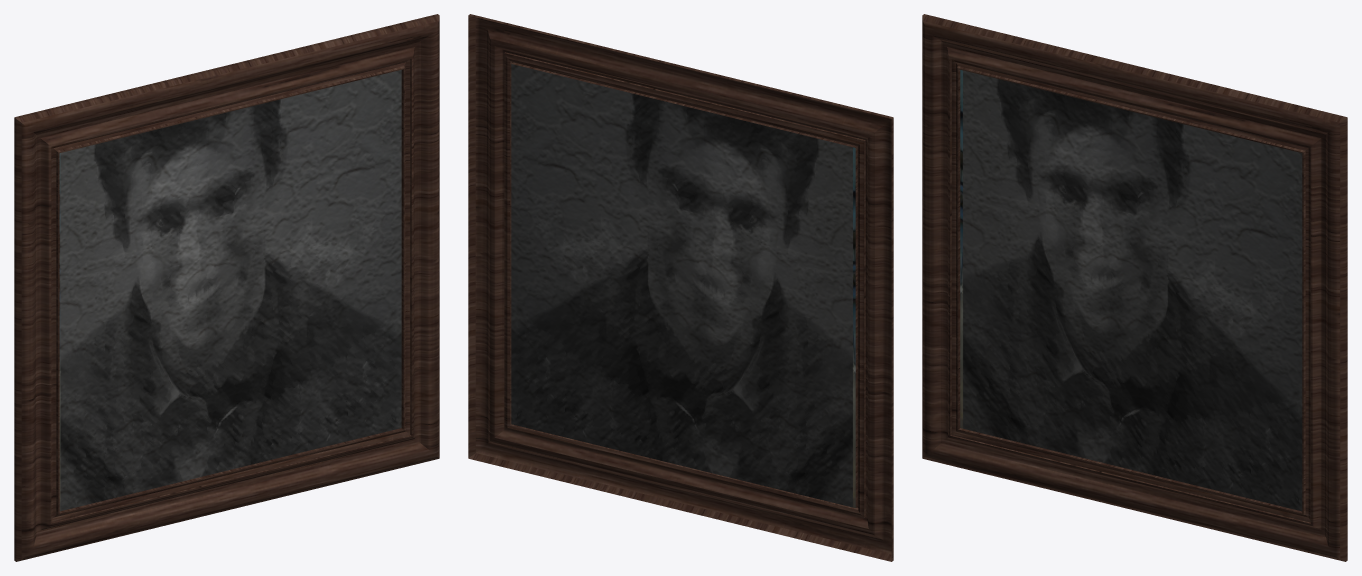
The model's file is Tableau12.fbx.
3 views of the same model, side by side, from view 1: azimuth 30°, elevation 25°; view 2: azimuth 150°, elevation 25°; view 3: azimuth 330°, elevation 25° (orthographic).
Parts seen in each view (by area): view 1: Asset_Tableau_Moulure_A_low2; view 2: Asset_Tableau_Moulure_A_low2; view 3: Asset_Tableau_Moulure_A_low2.
Boxes of the visible parts, x1,y1,x2,y2 form: Asset_Tableau_Moulure_A_low2: (14,14,439,561); Asset_Tableau_Moulure_A_low2: (468,14,893,561); Asset_Tableau_Moulure_A_low2: (922,14,1347,561).
Bounding box in the file's own units: 103 × 103 × 2.46.
Materials: 1 (1 with a texture image).
